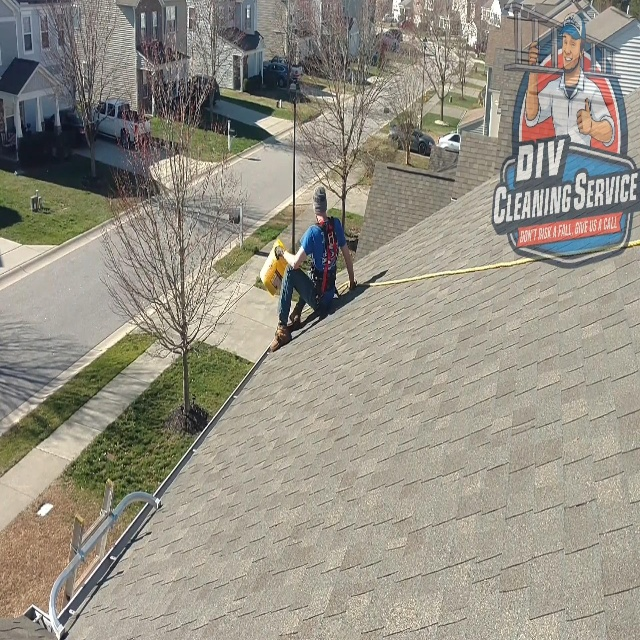Arnes_seguridad: (310, 216, 342, 312)
